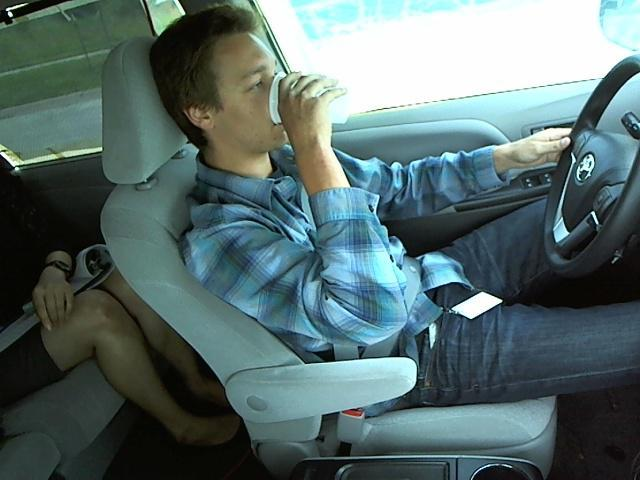Drinking: (151, 15, 350, 151)
